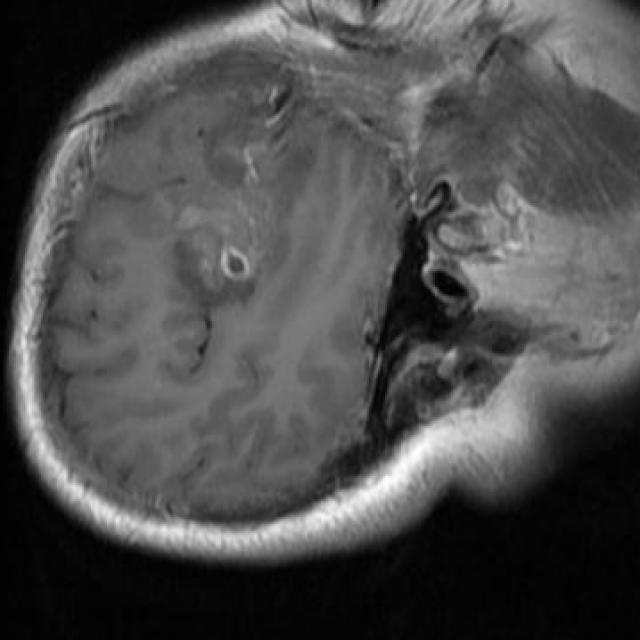glioma: (155, 103, 316, 308)
